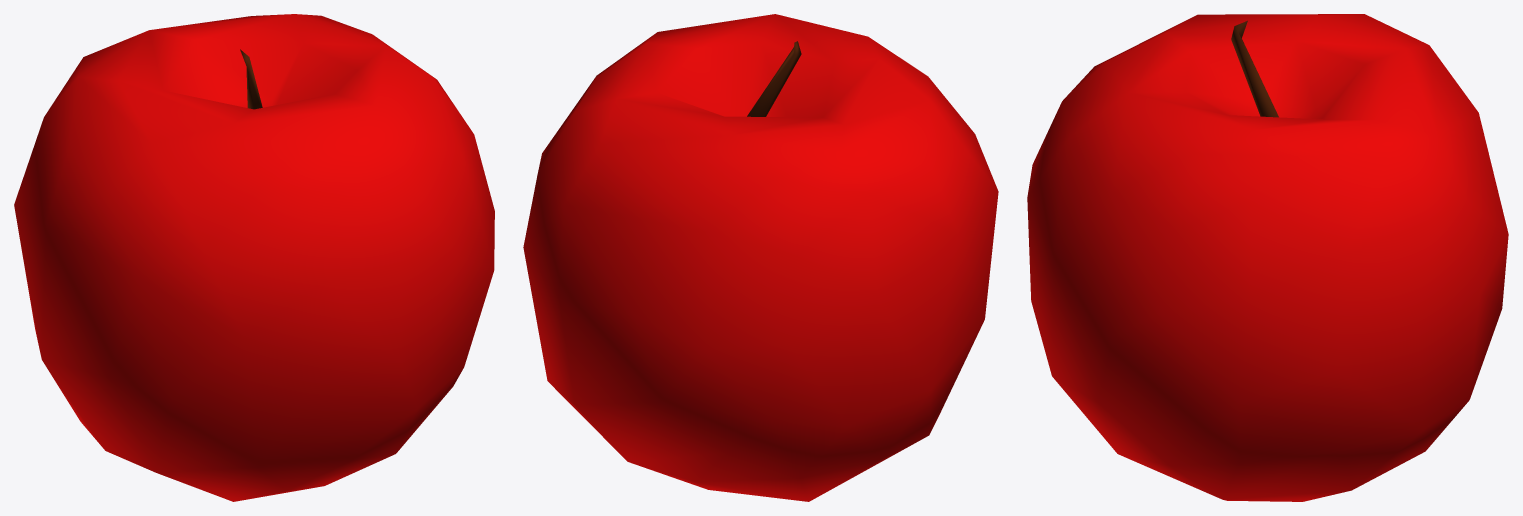
Rendered from Apple.fbx.
The picture shows the model from 3 angles, left to right: view 1: azimuth 30°, elevation 25°; view 2: azimuth 150°, elevation 25°; view 3: azimuth 270°, elevation 25°; orthographic projection. The views are drawn at different scales.
Parts seen in each view (by area): view 1: Sphere, Cylinder; view 2: Sphere, Cylinder; view 3: Sphere, Cylinder.
Boxes of the visible parts, left/top/right/bottom form: Sphere: left=14, top=14, right=494, bottom=501; Cylinder: left=240, top=49, right=262, bottom=109; Sphere: left=523, top=14, right=998, bottom=501; Cylinder: left=747, top=41, right=801, bottom=116; Sphere: left=1027, top=14, right=1508, bottom=501; Cylinder: left=1231, top=20, right=1278, bottom=117.
Size of the model in its own units: 166 by 164 by 165.
